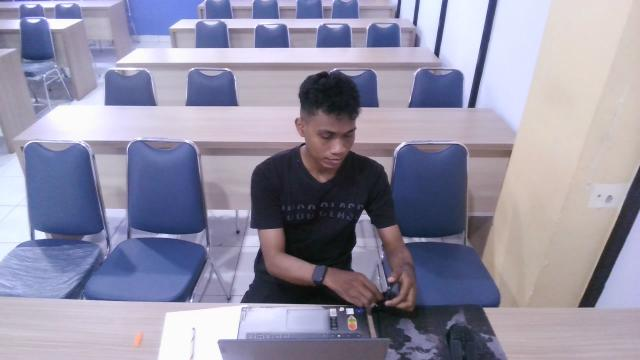Earpiece: (366, 279, 406, 309)
Head_Down_Extreme: (211, 59, 446, 342)
